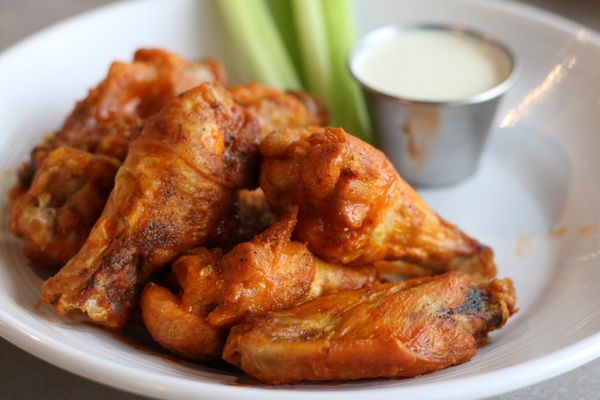pizza: (347, 20, 521, 188)
